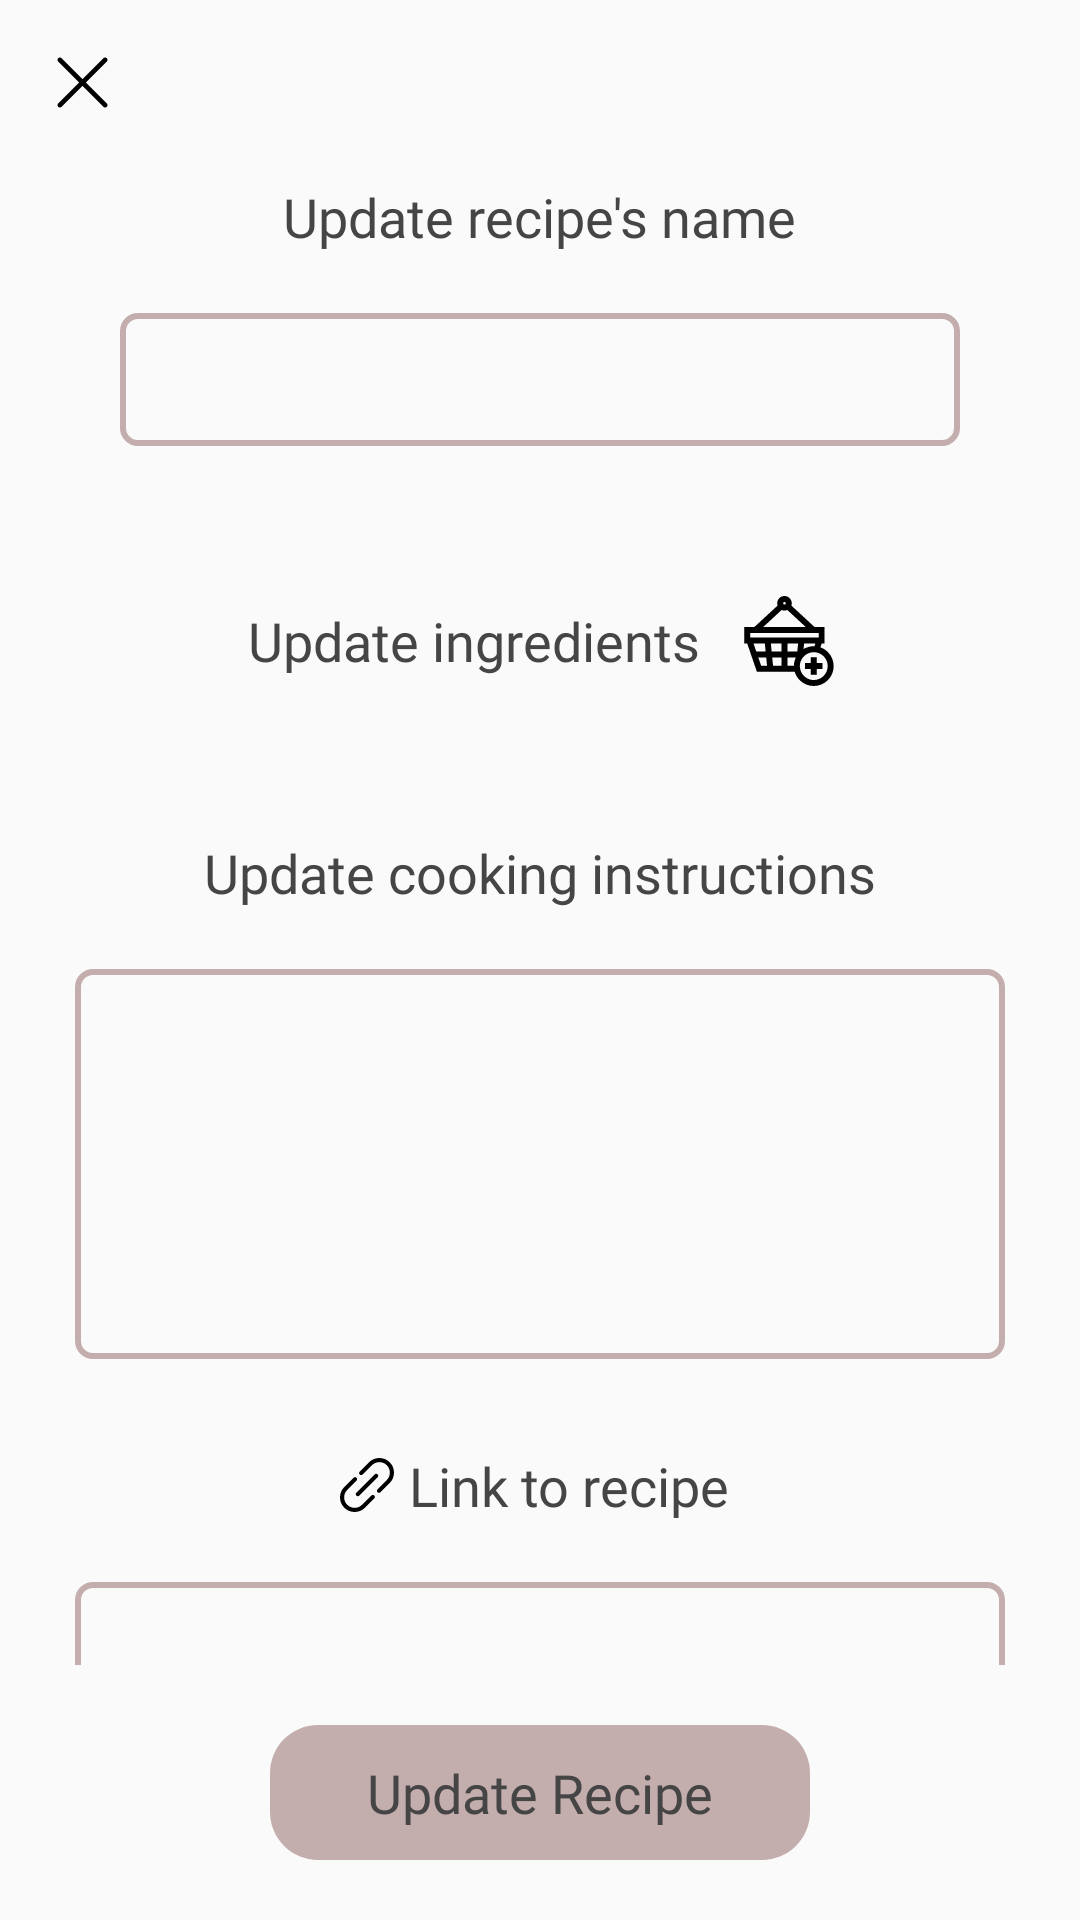

Point at icon controls on the screen. Image size 1080×1920, points as [x,y].
exit: [82,82]
